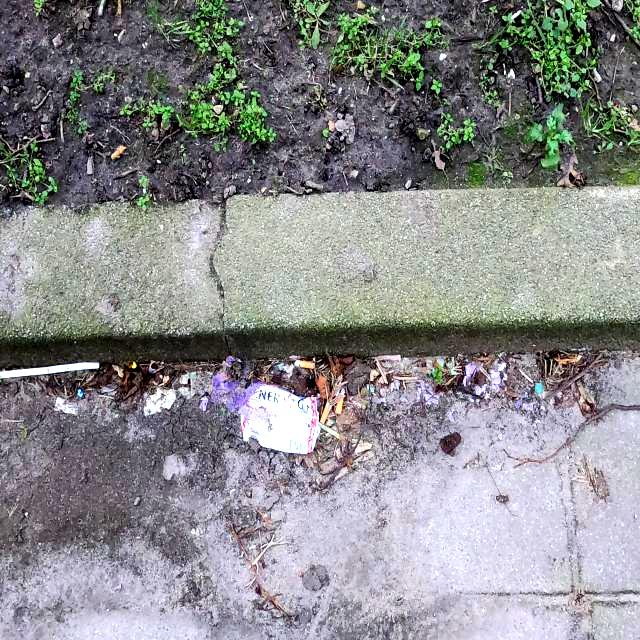Metal: (239, 380, 321, 456)
